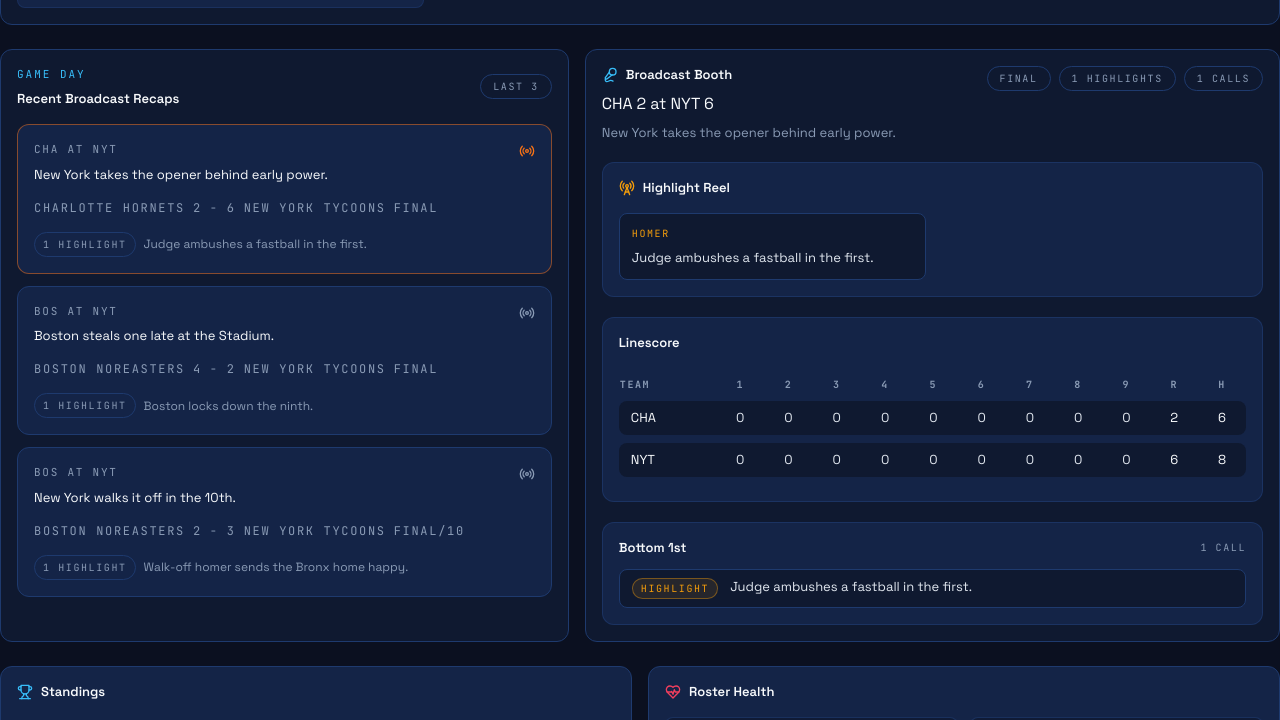
Scenario: DashboardPage › renders the franchise command center cards from the unified dashboard summary
(page scrolled)
What coordinates should you click on to do the following:
click the 2nd button
I would click on:
 (284, 360)
Its box is [17,286,552,435].
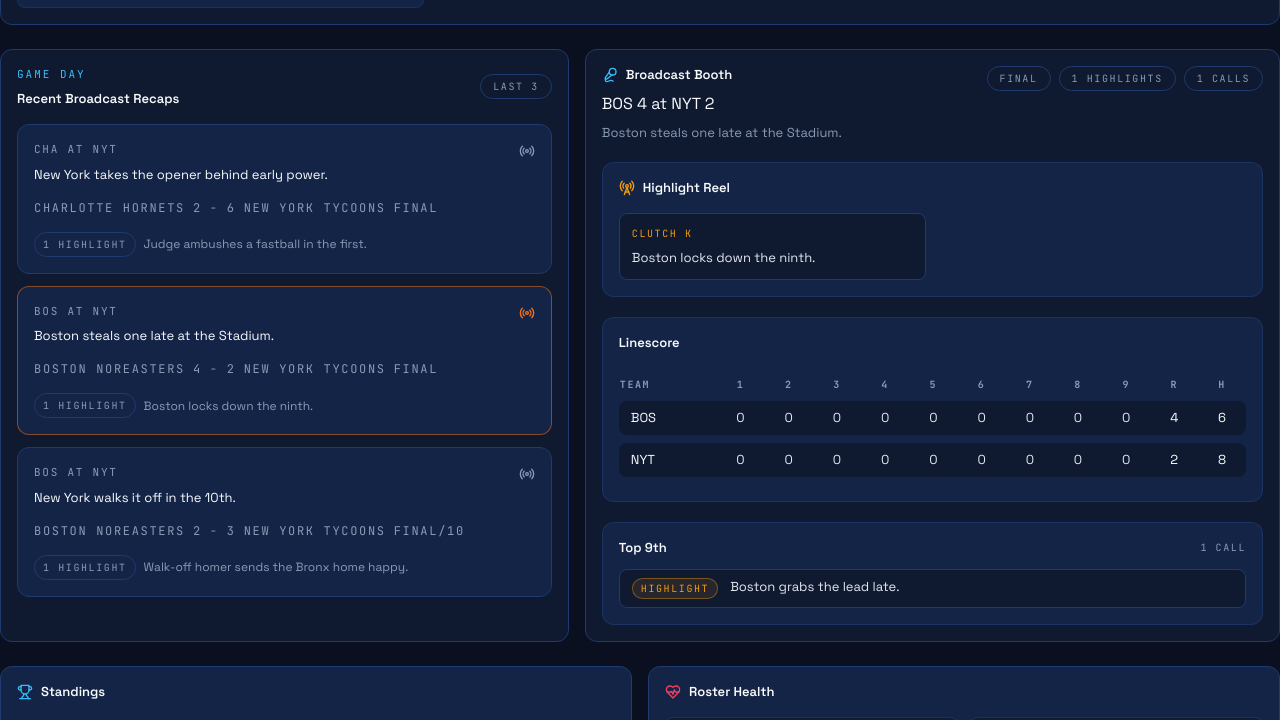
Now the text "Boston grabs the lead late." is shown, box [730,578,900,596]
